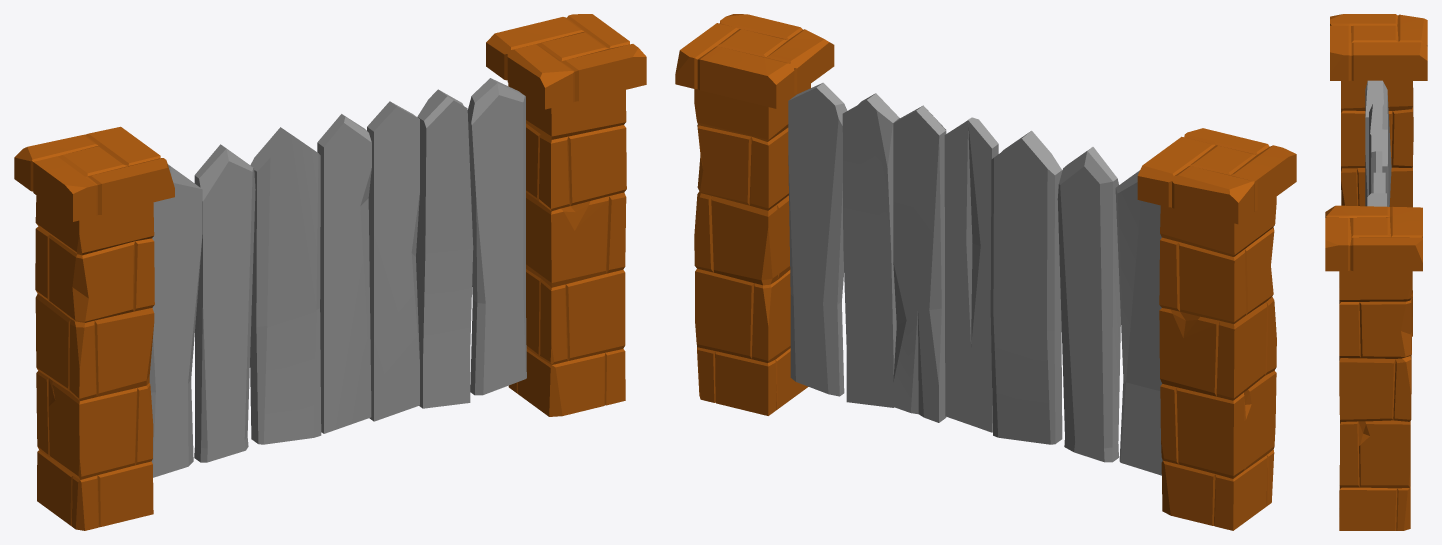
Rendered from Fence_6.fbx.
3 views of the same model, side by side, from view 1: azimuth 30°, elevation 25°; view 2: azimuth 150°, elevation 25°; view 3: azimuth 270°, elevation 25° (orthographic). The views are drawn at different scales.
Parts seen in each view (by area): view 1: Fence_6; view 2: Fence_6; view 3: Fence_6.
Boxes of the visible parts, box(x1,y1,x2,y2) form: Fence_6: box(14, 14, 646, 530); Fence_6: box(675, 14, 1296, 530); Fence_6: box(1325, 14, 1427, 530).
Bounding box in the file's own units: 59.9 × 35.1 × 11.19.
